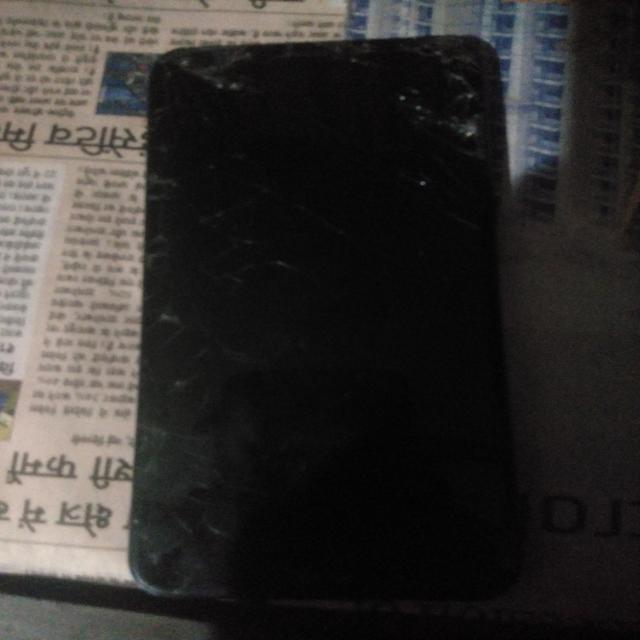screen crack: (128, 282, 222, 519), (154, 39, 272, 114), (391, 92, 513, 160)
